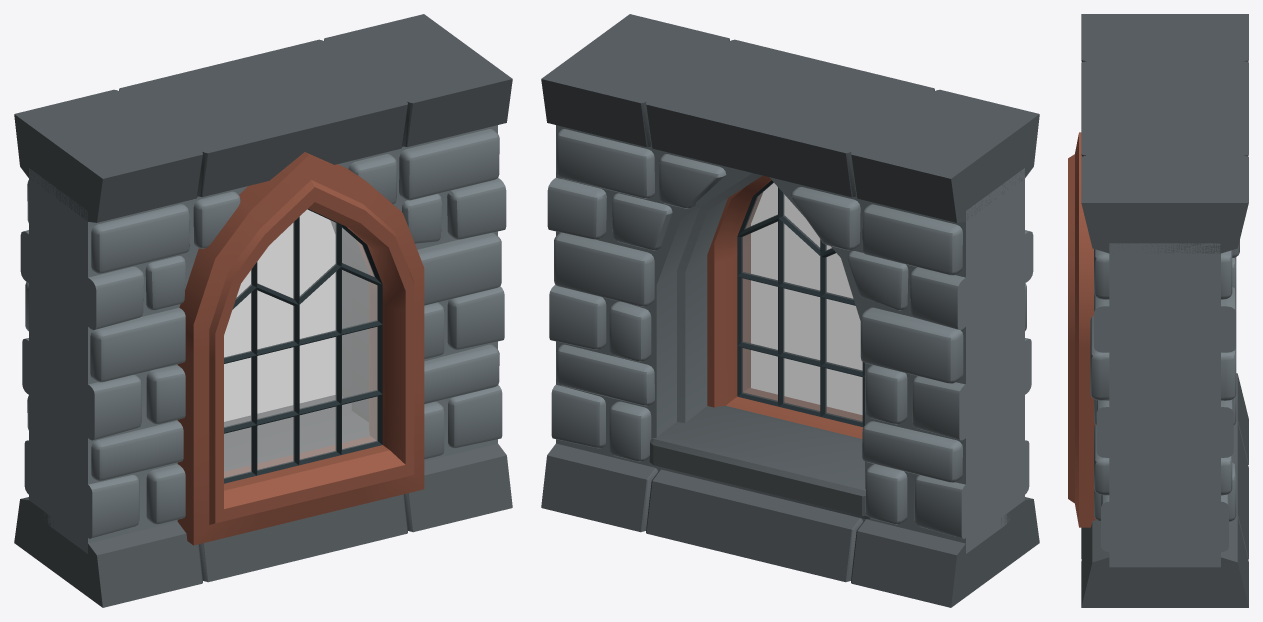
Rendered from wall_window2.fbx.
3 renders of one model, left to right at view 1: azimuth 30°, elevation 25°; view 2: azimuth 150°, elevation 25°; view 3: azimuth 270°, elevation 25°, orthographic. The views are drawn at different scales.
Parts seen in each view (by area): view 1: window2; view 2: window2; view 3: window2.
Part boxes in pixels (box(x1,y1,x2,y2)): window2: box(14, 14, 512, 607); window2: box(541, 14, 1039, 607); window2: box(1068, 14, 1248, 607).
Bounding box in the file's own units: 4 × 4 × 1.62.
